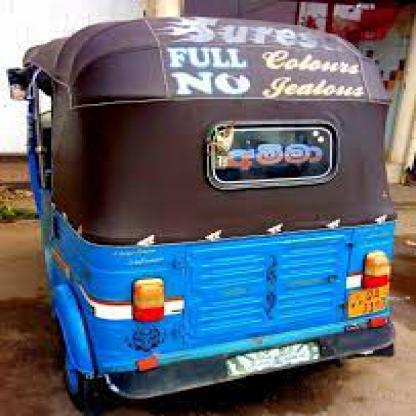tuk: (6, 17, 400, 412)
